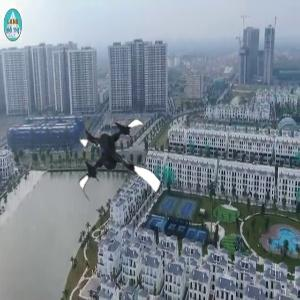drone: (70, 114, 170, 214)
